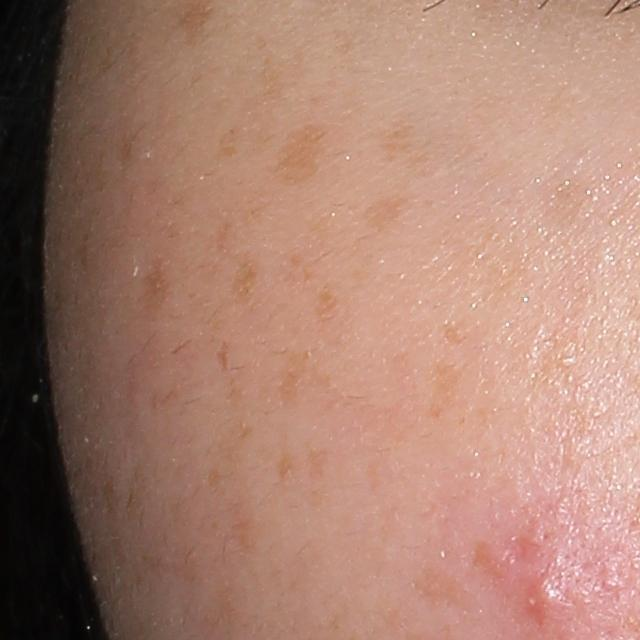atrophic_scar: (496, 530, 545, 567)
melasma: (375, 119, 476, 176), (205, 376, 256, 487), (272, 112, 338, 188), (277, 347, 333, 412), (424, 355, 464, 424), (362, 190, 417, 238), (225, 252, 264, 306), (139, 258, 168, 315), (313, 282, 344, 323), (304, 444, 335, 482), (276, 448, 301, 487), (439, 320, 471, 347), (217, 126, 243, 159), (216, 337, 231, 371)
papule: (518, 568, 562, 628)
